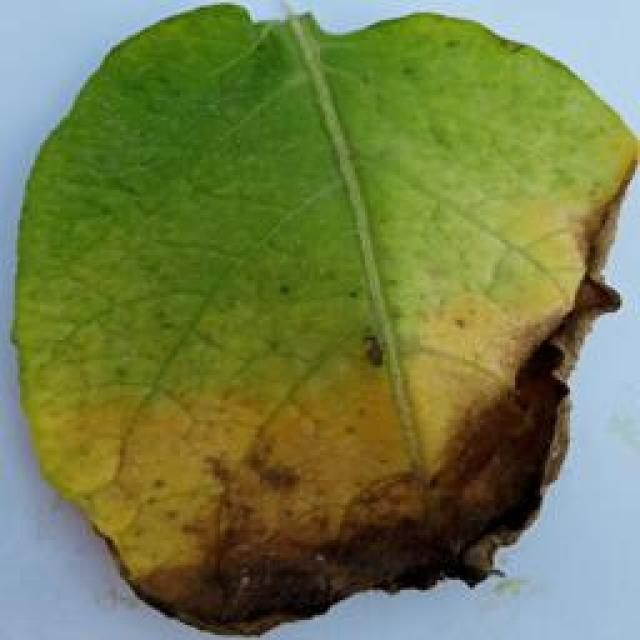Potato_Late_Blight: (17, 2, 630, 632)
